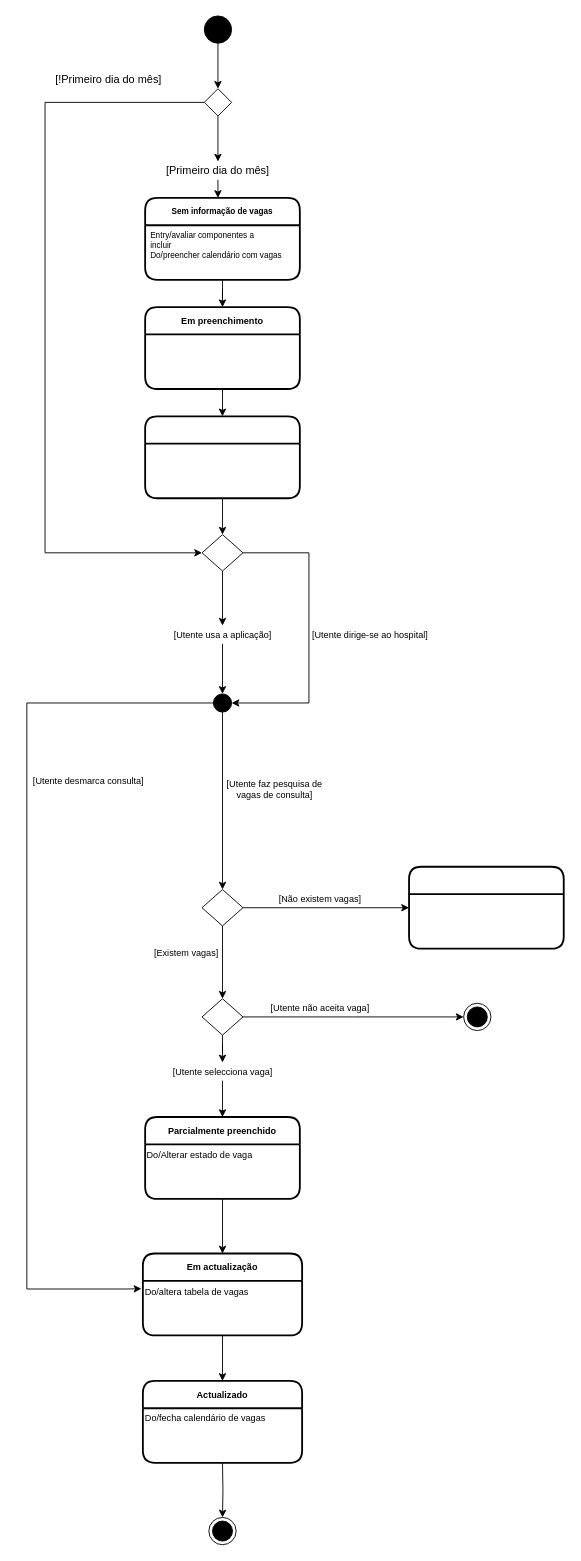
The diagram is 581 pixels wide and 1561 high, and some of its shapes have lost their labels. Each missing label, with the centre of its shape:
Preenchido com vagas: (x=222, y=457)
Sem disponibilidade: (x=486, y=907)
